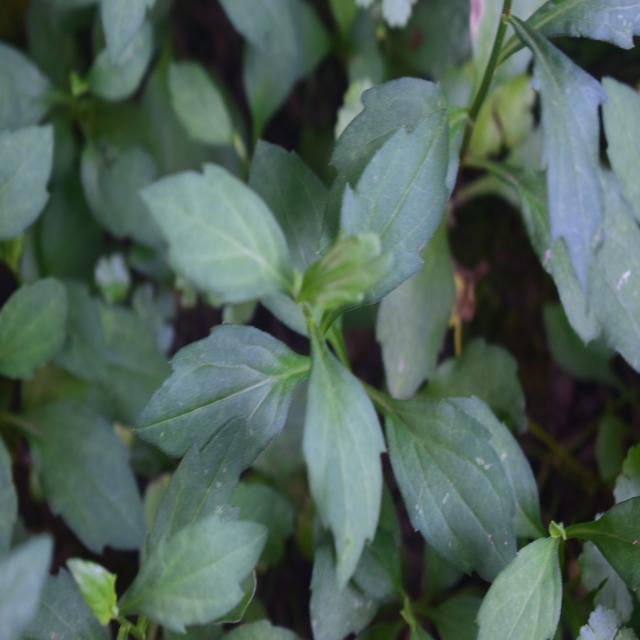Indian aster: (117, 105, 487, 540)
